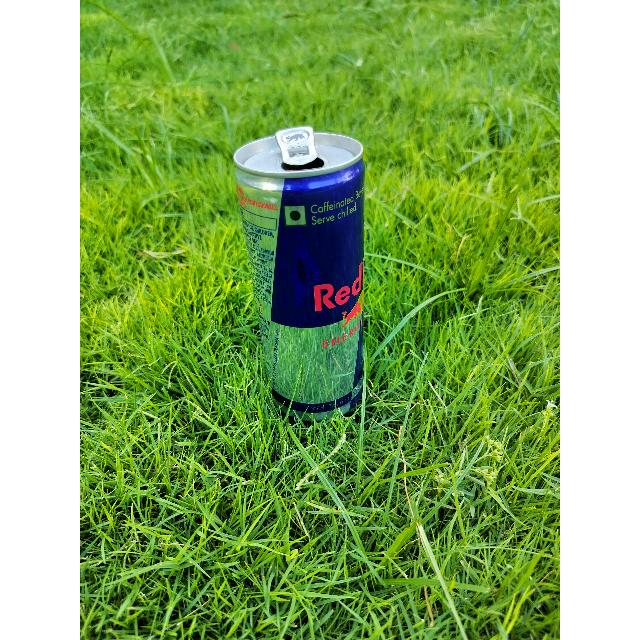Redbull: (240, 142, 374, 422)
